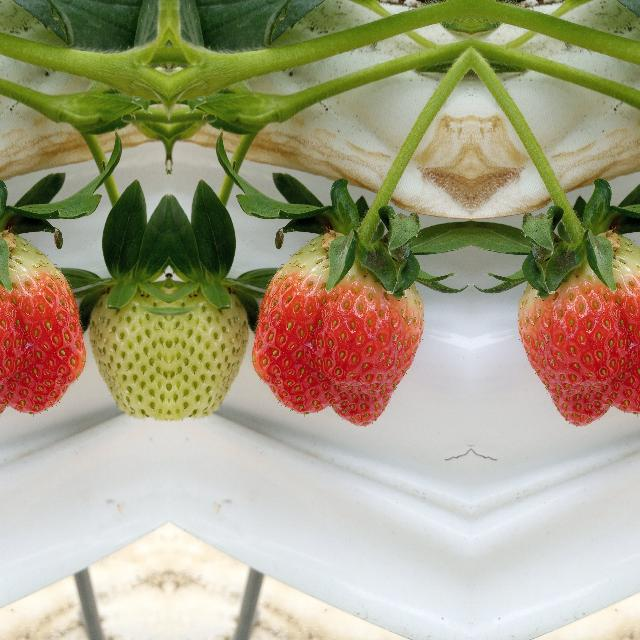Health_100: (250, 234, 424, 426), (517, 234, 640, 426), (0, 234, 86, 426)
Health_25: (170, 261, 248, 423), (88, 261, 166, 423)
